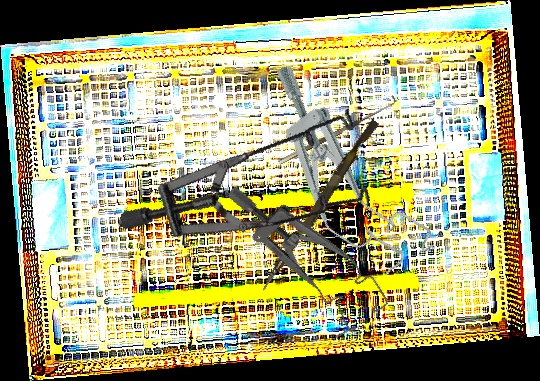Hook Surgical: (275, 95, 398, 165)
Pusher: (259, 116, 380, 296)
Speculum: (117, 52, 395, 298), (235, 53, 441, 293), (223, 149, 394, 352)
